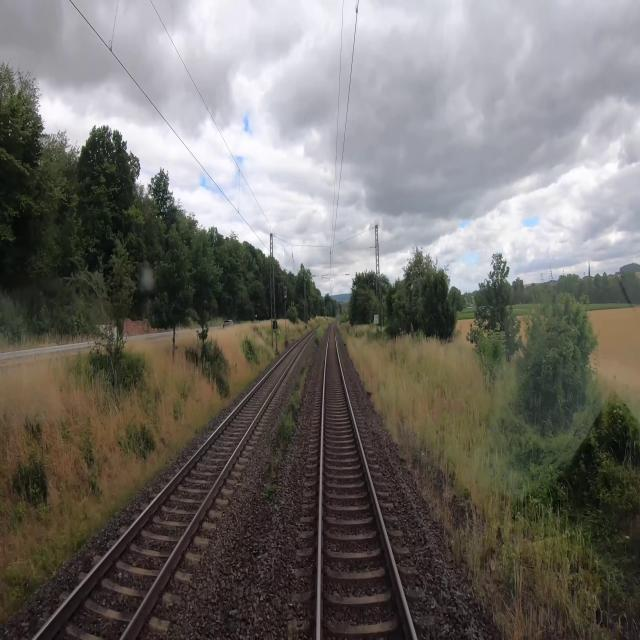Plant: (276, 351, 315, 449), (264, 484, 277, 508), (269, 457, 280, 481)
